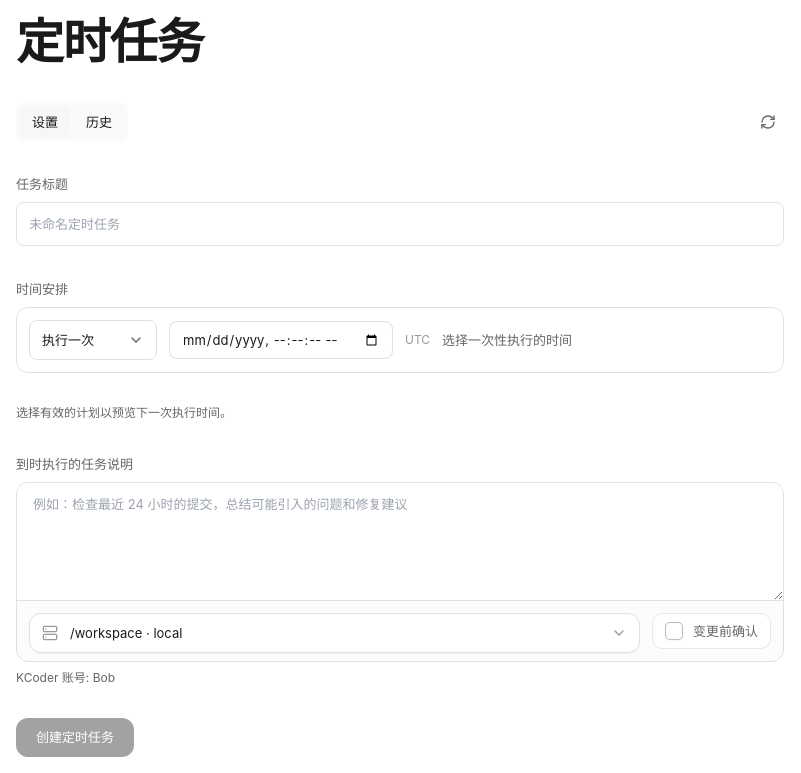
Test case: an account change rejects its pending list even when device and workspace are unchanged
The width and height of the screenshot is (801, 773).
Expected: the text with test id "automation-identity" shows "Bob", left=93, top=670, right=115, bottom=685
Click the tab with test id "automation-tab-history" at (99, 122), box left=74, top=107, right=124, bottom=137
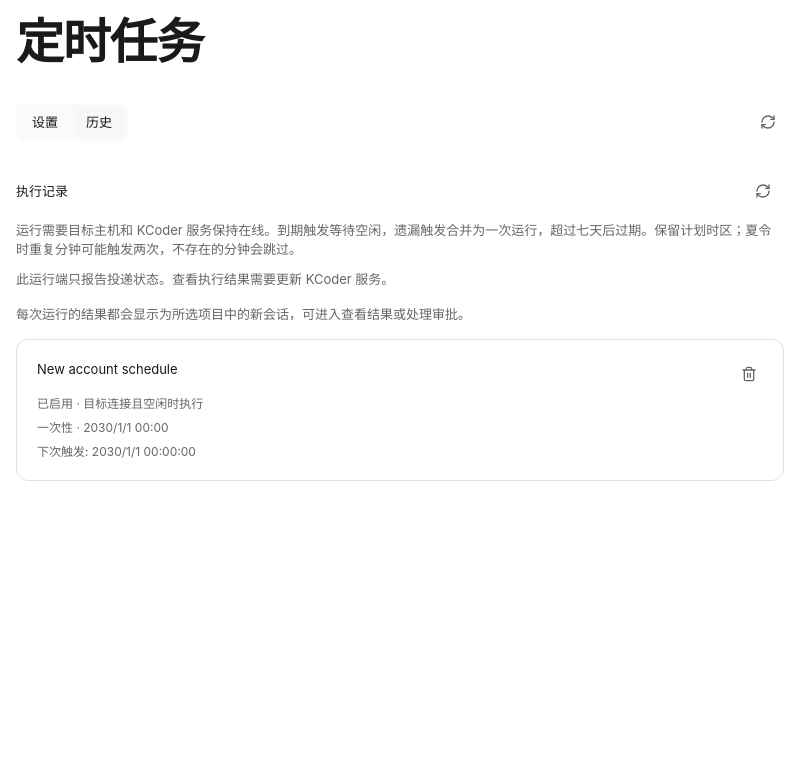
Result: the element with test id "automation-job" shows "New account schedule" at left=37, top=361, right=178, bottom=377
